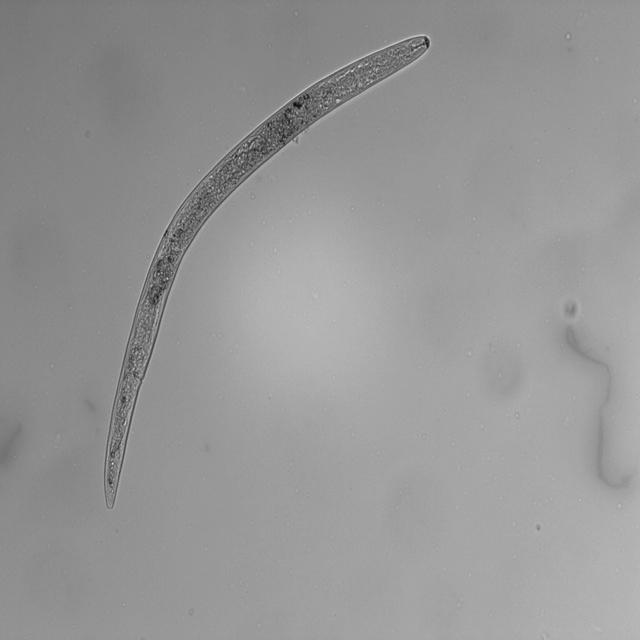Pratylenchus: (97, 32, 438, 523)
